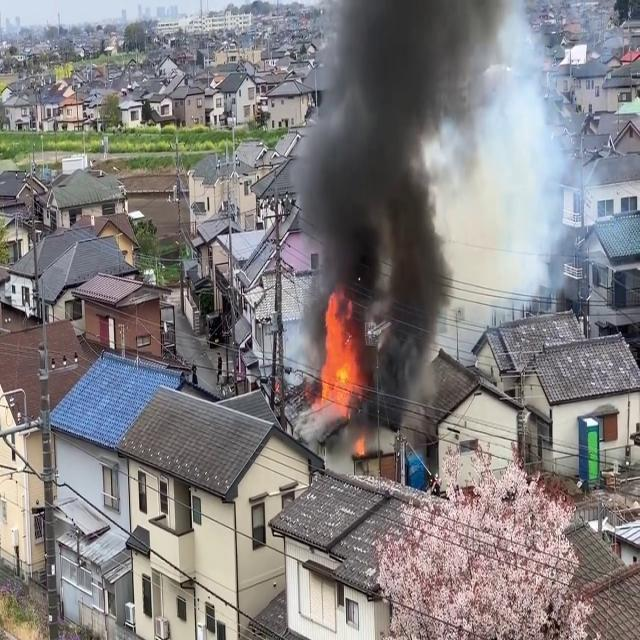Fire: (315, 289, 363, 419)
Smoke: (289, 0, 508, 387)
